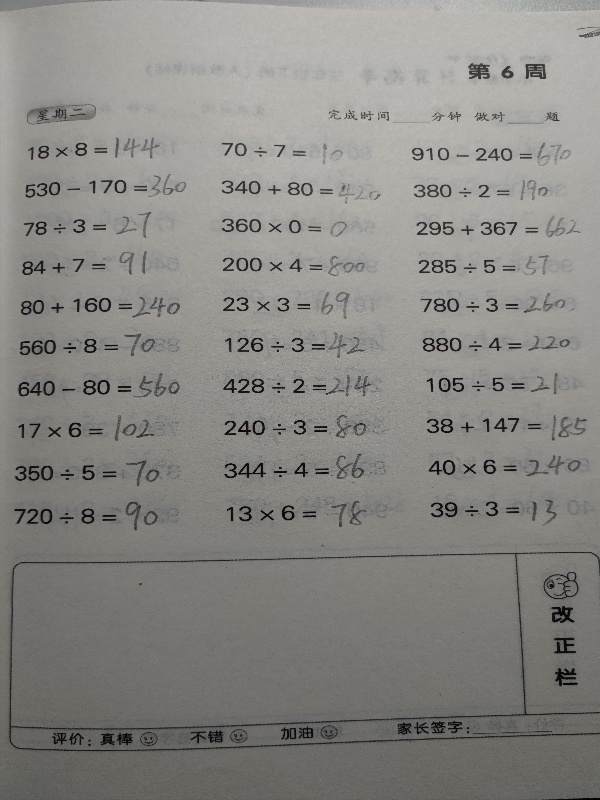equation: (22, 169, 190, 206), (13, 370, 186, 405), (14, 287, 192, 321), (222, 495, 374, 532), (427, 452, 588, 486), (421, 410, 592, 442), (408, 140, 576, 171), (219, 286, 365, 321), (222, 373, 380, 405), (12, 502, 168, 534), (413, 213, 585, 242), (218, 412, 377, 443), (221, 328, 372, 360), (218, 177, 384, 206), (429, 493, 566, 528), (419, 327, 584, 356), (424, 366, 569, 399), (220, 454, 374, 485), (15, 329, 159, 362), (13, 459, 170, 489), (217, 136, 355, 170), (219, 252, 378, 281), (16, 416, 162, 447), (416, 290, 577, 317), (12, 209, 155, 239), (410, 176, 553, 204), (414, 250, 552, 279), (20, 250, 159, 278), (24, 135, 163, 162), (218, 215, 350, 238)
